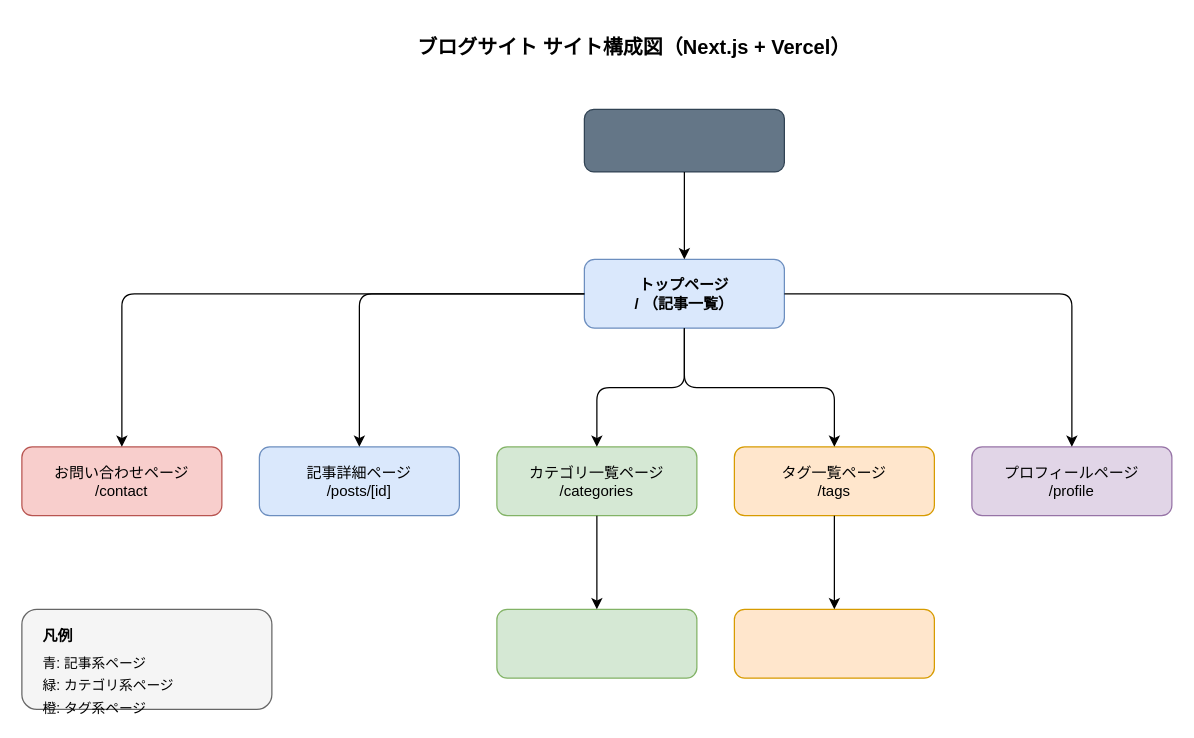
This 1194x738 diagram has some shape labels left out. Here are the shapes that lost their labels. From the top down, the centre of each, then its label:
At (x=683, y=140): "ブログサイト".
At (x=596, y=643): "カテゴリ別記事一覧 /categories/[slug]".
At (x=833, y=643): "タグ別記事一覧 /tags/[slug]".
